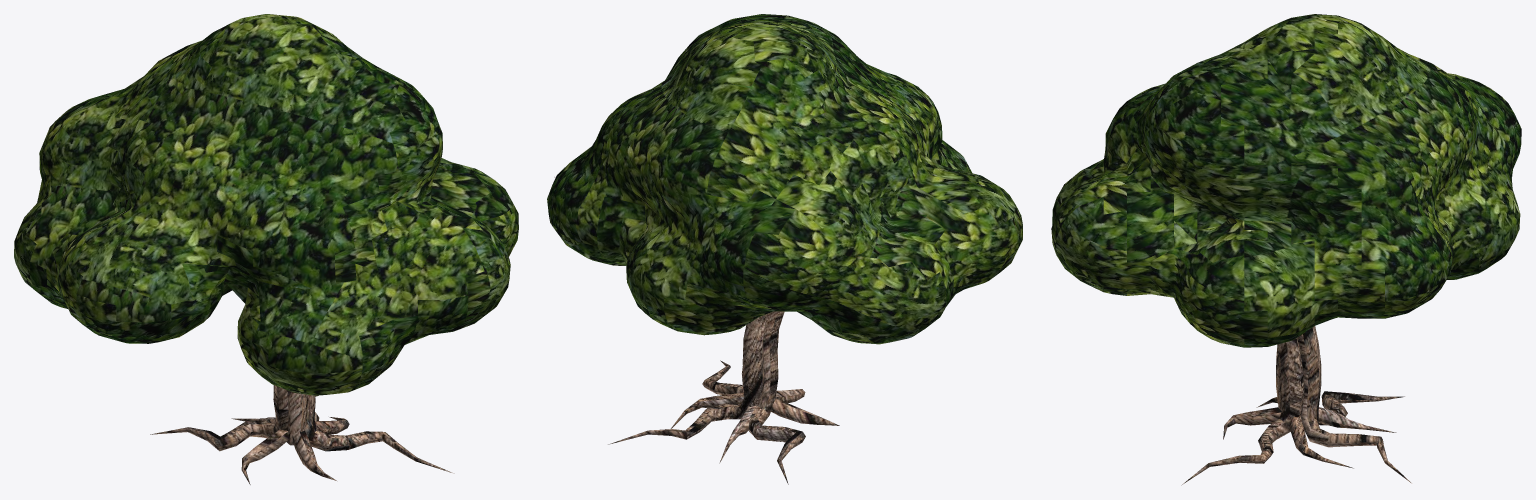
The model's file is Tree.fbx.
3 views of the same model, side by side, from view 1: azimuth 30°, elevation 25°; view 2: azimuth 150°, elevation 25°; view 3: azimuth 270°, elevation 25° (orthographic). The views are drawn at different scales.
Parts seen in each view (by area): view 1: Leaves, Tree; view 2: Leaves, Tree; view 3: Leaves, Tree.
Part boxes in pixels (x1,y1,x2,y2): Leaves: (14, 14, 518, 395); Tree: (150, 385, 454, 484); Leaves: (547, 14, 1022, 344); Tree: (554, 177, 839, 484); Leaves: (1051, 14, 1521, 347); Tree: (1181, 267, 1411, 485).
Size of the model in its own units: 828 by 770 by 802.
Materials: 2 (2 with a texture image).
